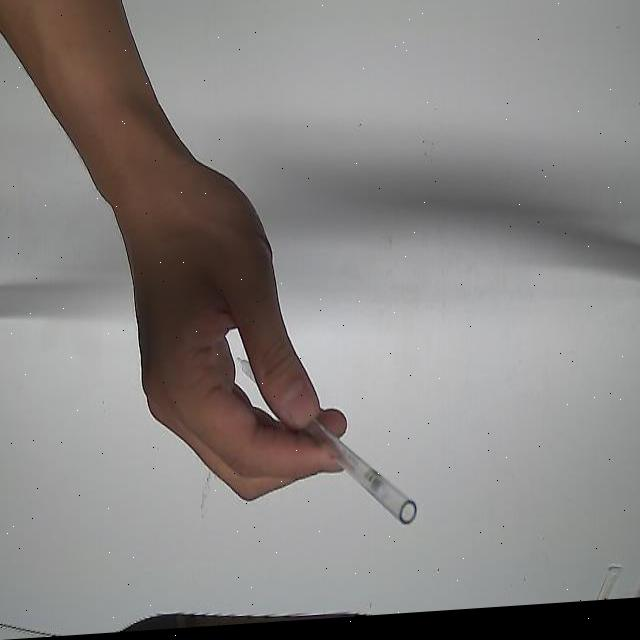Serelogical Pipet 2 mL: (230, 347, 426, 550)
